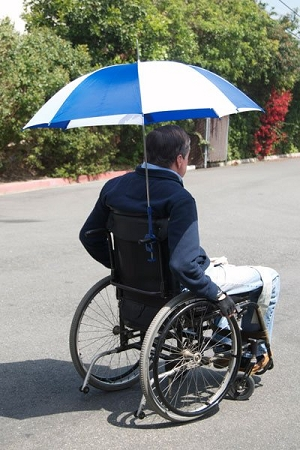person: (81, 132, 212, 271)
wheelchair: (64, 270, 266, 421)
